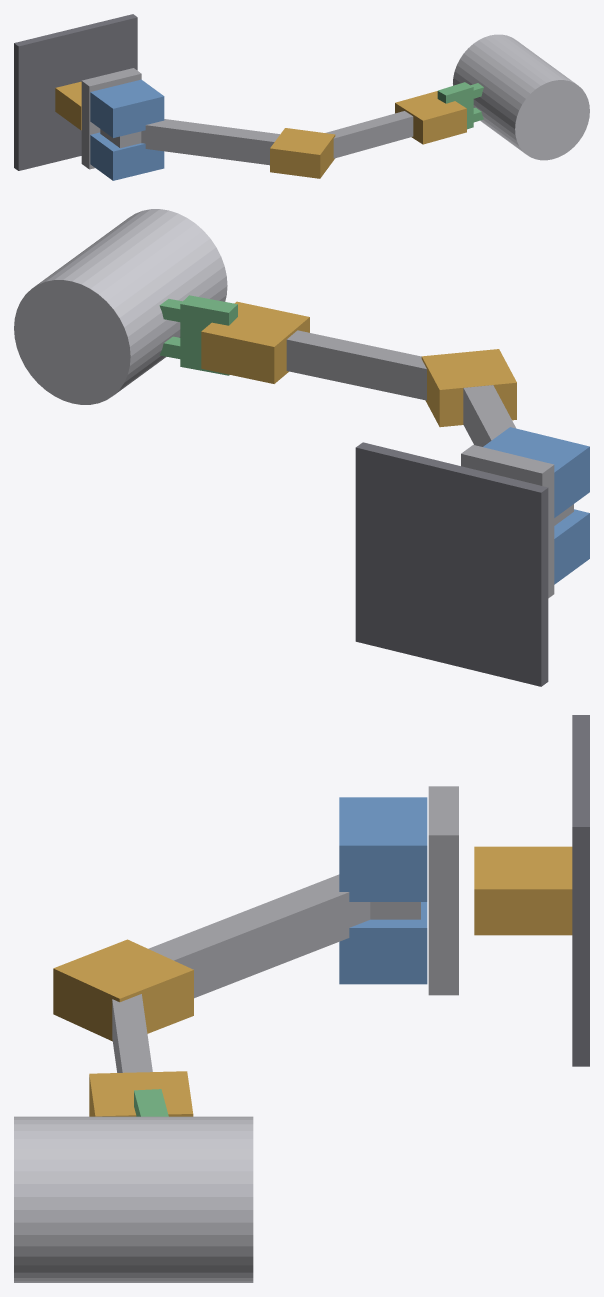
The model's file is arm_coffee.glb.
3 renders of one model, top to bottom at view 1: azimuth 30°, elevation 25°; view 2: azimuth 150°, elevation 25°; view 3: azimuth 270°, elevation 25°, orthographic. The views are drawn at different scales.
Visible parts, largest first — view 1: world; view 2: world; view 3: world.
Boxes of the visible parts, x1,y1,x2,y2 form: world: [14, 14, 589, 180]; world: [14, 209, 589, 686]; world: [14, 715, 589, 1282].
Size of the model in its own units: 376 by 105 by 228.
